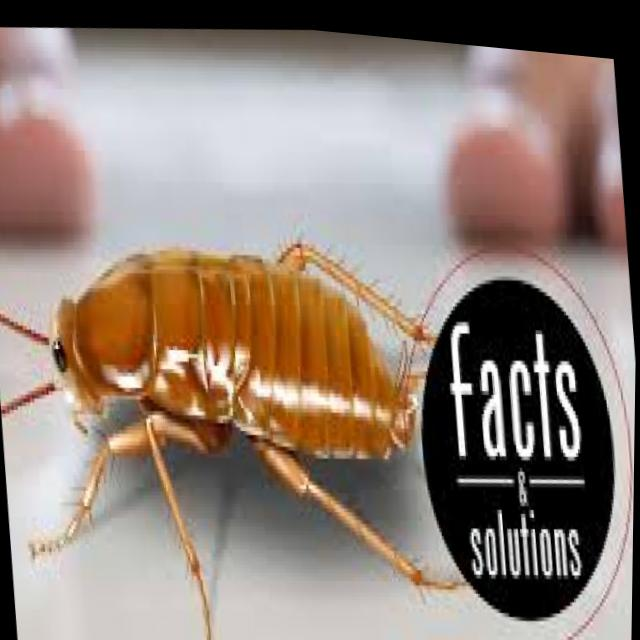Cockroach: (0, 163, 484, 640)
